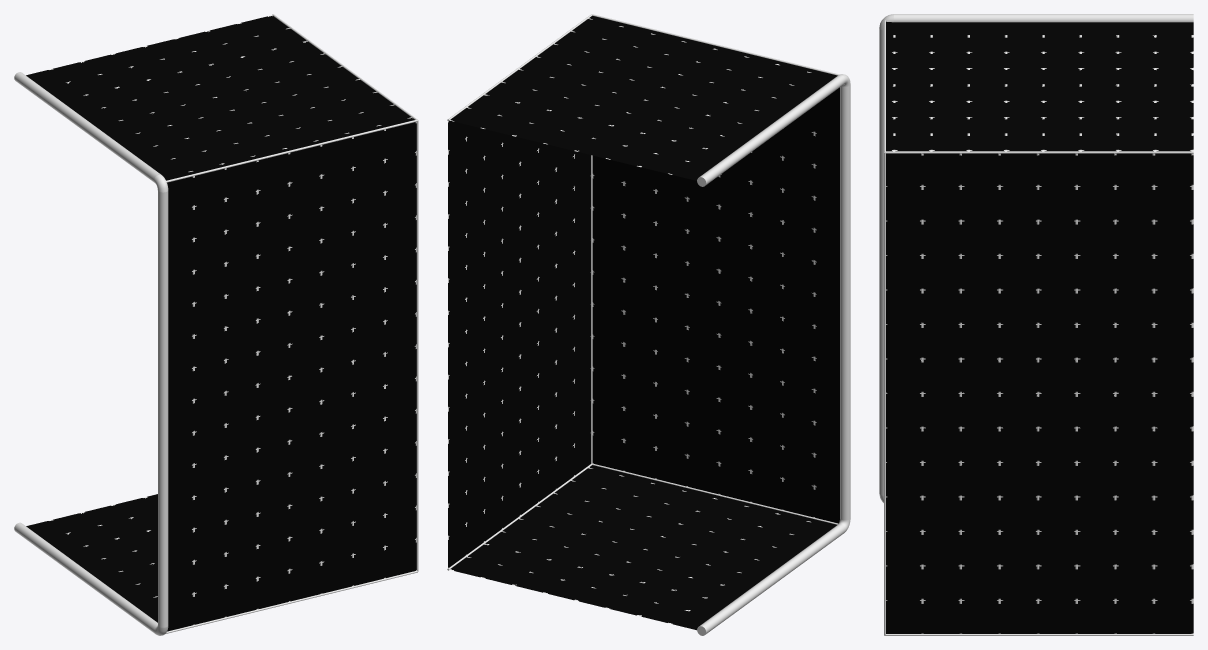
The model's file is Tor_Vodafone_02.obj.
3 renders of one model, left to right at view 1: azimuth 30°, elevation 25°; view 2: azimuth 150°, elevation 25°; view 3: azimuth 270°, elevation 25°, orthographic. The views are drawn at different scales.
Parts seen in each view (by area): view 1: Tor_Netz_Top, Tor_Netz_Seite_01, Tor_Netz_Seite_02, Latte, Pfosten, Pfosten_02, Seil_03, Seil_01, Seil_02; view 2: Tor_Netz_Top, Tor_Netz_Rueck, Tor_Netz_Seite_01, Tor_Netz_Seite_02, Latte, Pfosten, Pfosten_02, Seil_03, Seil_01; view 3: Tor_Netz_Rueck, Tor_Netz_Seite_01, Pfosten, Latte, Seil_03, Seil_04, Seil_05.
Part boxes in pixels (<box>): Tor_Netz_Top: <box>167,122,416,631</box>; Tor_Netz_Seite_01: <box>26,15,414,180</box>; Tor_Netz_Seite_02: <box>26,494,157,622</box>; Latte: <box>158,191,168,627</box>; Pfosten: <box>14,72,160,182</box>; Pfosten_02: <box>14,522,157,633</box>; Seil_03: <box>416,120,418,571</box>; Seil_01: <box>165,119,417,182</box>; Seil_02: <box>165,570,417,633</box>; Tor_Netz_Top: <box>592,87,839,523</box>; Tor_Netz_Rueck: <box>448,120,590,568</box>; Tor_Netz_Seite_01: <box>449,15,837,180</box>; Tor_Netz_Seite_02: <box>449,465,836,630</box>; Latte: <box>840,85,850,520</box>; Pfosten: <box>697,75,845,186</box>; Pfosten_02: <box>697,524,845,635</box>; Seil_03: <box>591,155,592,463</box>; Seil_01: <box>592,14,839,75</box>; Tor_Netz_Rueck: <box>886,153,1193,633</box>; Tor_Netz_Seite_01: <box>886,21,1193,151</box>; Pfosten: <box>894,14,1193,22</box>; Latte: <box>879,29,883,495</box>; Seil_03: <box>884,152,885,635</box>; Seil_04: <box>885,151,1193,153</box>; Seil_05: <box>885,634,1193,635</box>.
Bounding box in the file's own units: 84.52 × 143 × 82.65.
2 materials, 1 textured.
